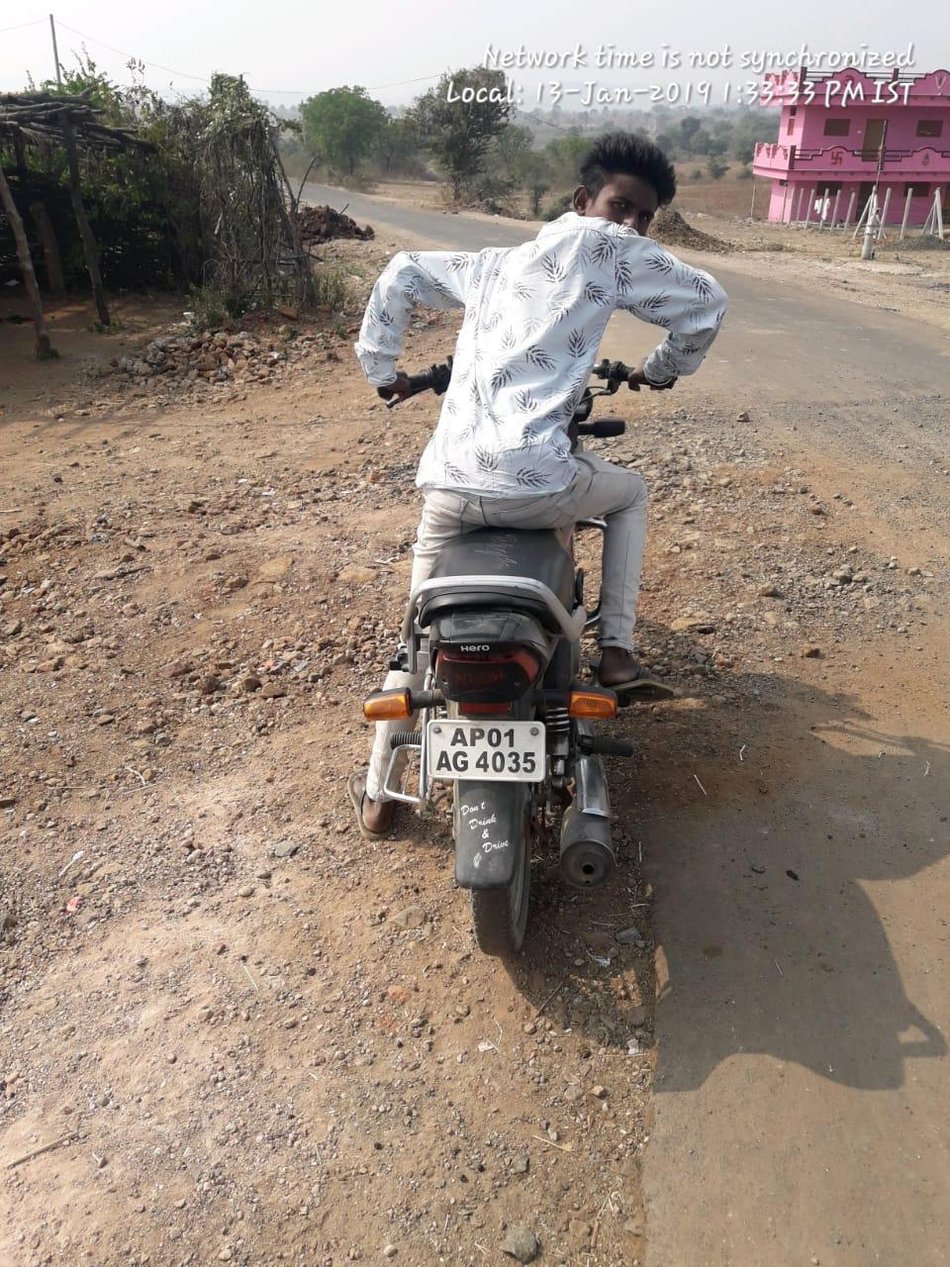plate: (417, 707, 558, 796)
